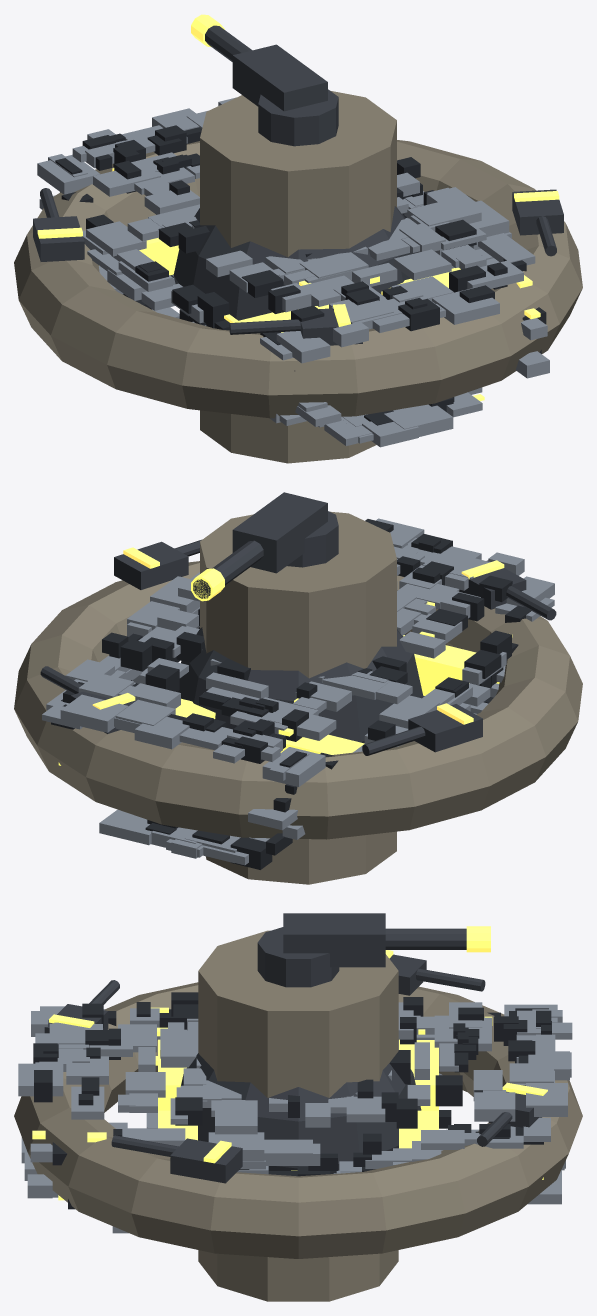
File: plektor_station.glb
The picture shows the model from 3 angles, top to bottom: view 1: azimuth 30°, elevation 25°; view 2: azimuth 150°, elevation 25°; view 3: azimuth 270°, elevation 25°; orthographic projection.
Parts seen in each view (by area): view 1: hull, turret_0, aux_2, aux_0, aux_1; view 2: hull, turret_0, aux_2, aux_0, aux_1, aux_3; view 3: hull, turret_0, aux_0, aux_2, aux_3, aux_1.
Boxes of the visible parts, x1=… form: hull: x1=14, y1=91, x2=582, y2=463; turret_0: x1=191, y1=14, x2=338, y2=146; aux_2: x1=33, y1=188, x2=84, y2=261; aux_0: x1=512, y1=189, x2=563, y2=256; aux_1: x1=229, y1=304, x2=362, y2=345; hull: x1=14, y1=511, x2=582, y2=884; turret_0: x1=191, y1=492, x2=338, y2=601; aux_2: x1=362, y1=703, x2=482, y2=755; aux_0: x1=114, y1=539, x2=201, y2=589; aux_1: x1=459, y1=560, x2=556, y2=620; aux_3: x1=40, y1=666, x2=135, y2=733; hull: x1=14, y1=930, x2=582, y2=1301; turret_0: x1=257, y1=913, x2=490, y2=987; aux_0: x1=111, y1=1135, x2=242, y2=1183; aux_2: x1=385, y1=950, x2=485, y2=995; aux_3: x1=477, y1=1082, x2=547, y2=1146; aux_1: x1=44, y1=980, x2=119, y2=1033.
Size of the model in its own units: 122 by 79.71 by 122.
